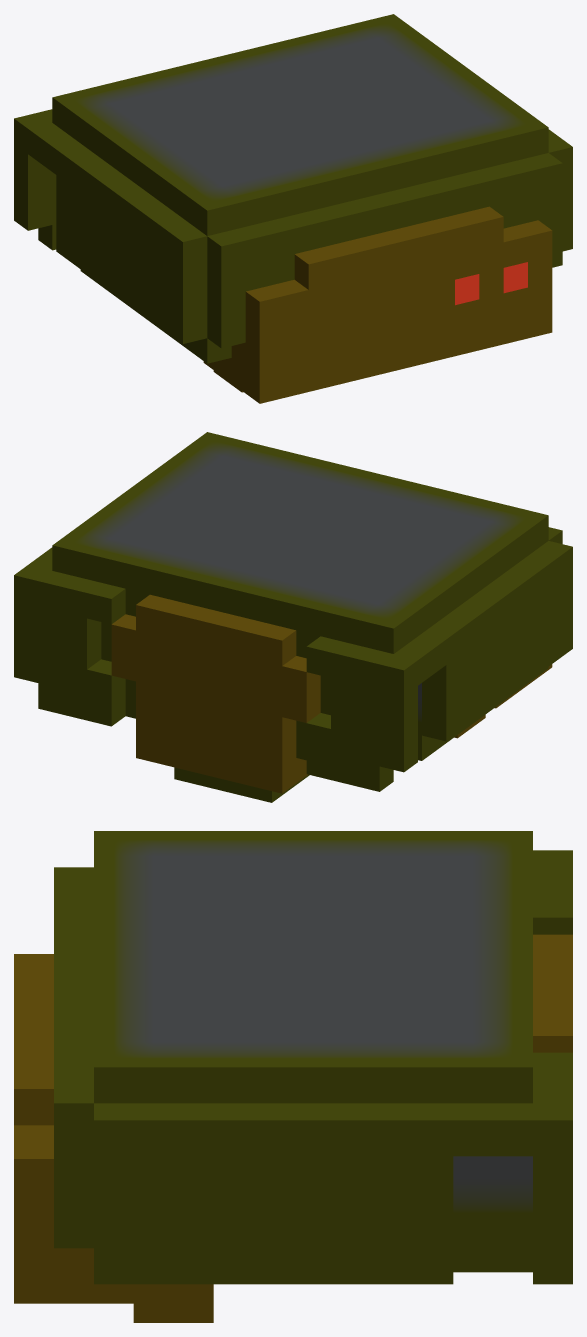
File: Body14.fbx
3 views of the same model, one above another, from view 1: azimuth 30°, elevation 25°; view 2: azimuth 150°, elevation 25°; view 3: azimuth 270°, elevation 25° (orthographic). The views are drawn at different scales.
Visible parts, largest first — view 1: Body14; view 2: Body14; view 3: Body14.
Boxes of the visible parts, x1,y1,x2,y2 form: Body14: (14, 14, 572, 403); Body14: (14, 432, 572, 802); Body14: (14, 831, 572, 1322).
Bounding box in the file's own units: 80 × 40 × 70.
